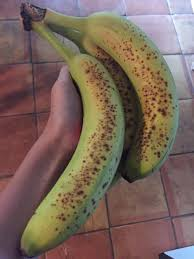banana: (18, 2, 178, 245)
